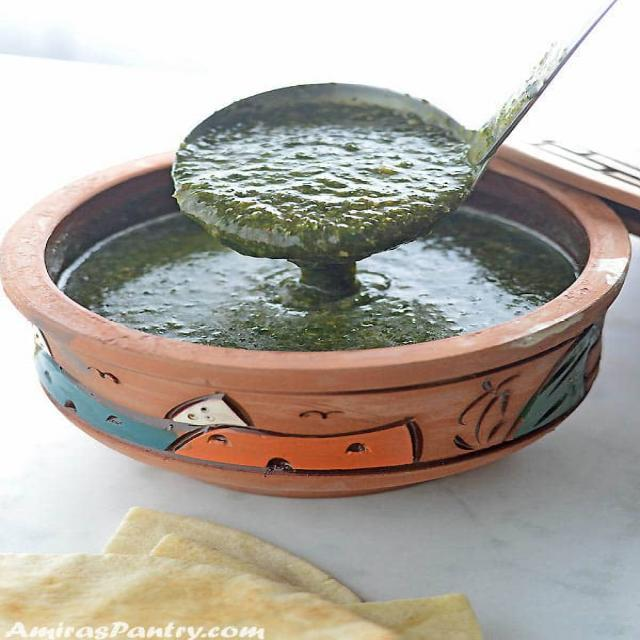molokhia: (45, 158, 613, 446)
